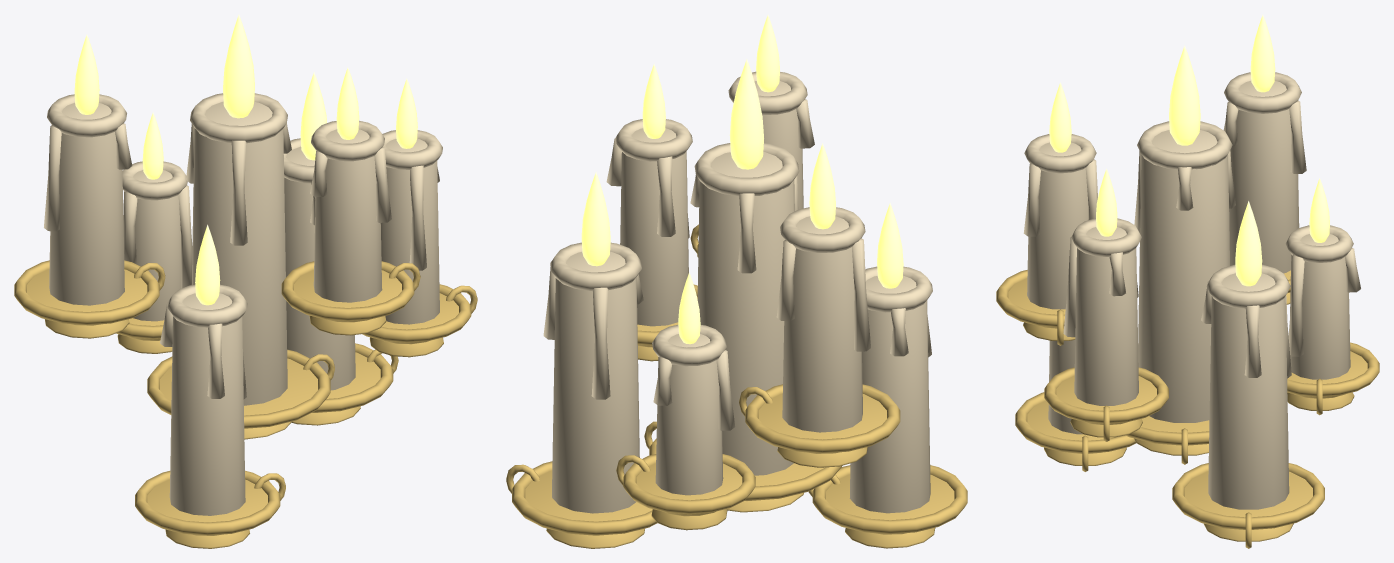
The model's file is floating_candle_cluster.glb.
3 views of the same model, side by side, from view 1: azimuth 30°, elevation 25°; view 2: azimuth 150°, elevation 25°; view 3: azimuth 270°, elevation 25° (orthographic). The views are drawn at different scales.
Parts seen in each view (by area): view 1: Wax_0, SaucerBowl_0, TeardropFlame_0; view 2: Wax_0, SaucerBowl_0, TeardropFlame_0; view 3: Wax_0, SaucerBowl_0, TeardropFlame_0.
Boxes of the visible parts, x1,y1,x2,y2 form: Wax_0: (44,93,442,515); SaucerBowl_0: (14,260,477,548); TeardropFlame_0: (74,14,417,305); Wax_0: (543,71,932,513); SaucerBowl_0: (506,224,967,548); TeardropFlame_0: (581,14,903,344); Wax_0: (1023,72,1360,509); SaucerBowl_0: (996,270,1379,548); TeardropFlame_0: (1049,14,1329,286).
Size of the model in its own units: 1.17 by 1.38 by 1.08.
